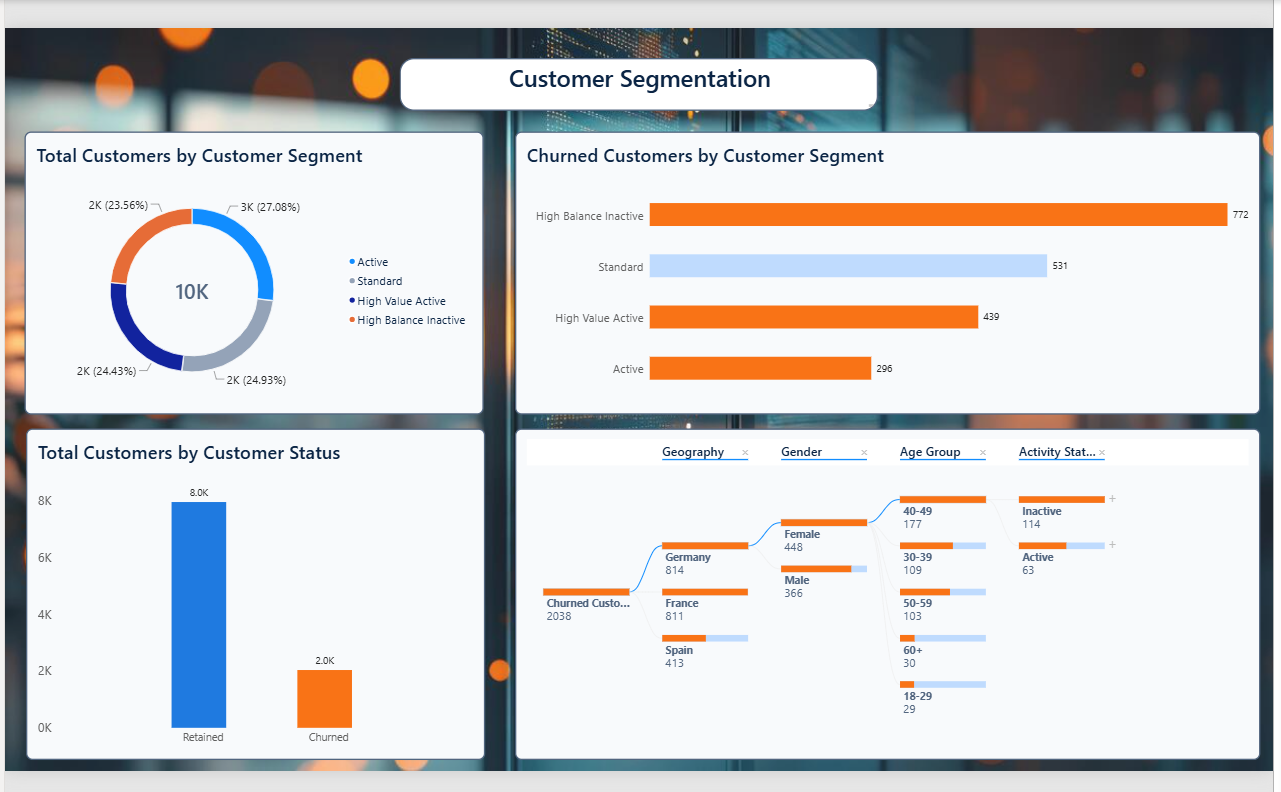

What the dashboard file says about the page in this screenshot:
{"tool":"powerbi","page":{"name":"Customer Segmentation","canvas":[1920,1080],"ordinal":3},"visuals":[{"type":"donutChart","fields":{"Category":["Customer-Churn-Records.Customer Segment"],"Y":["Customer-Churn-Records.Total Customers"]},"box":[28.9,111.1,695.6,428.9],"z":0},{"type":"barChart","fields":{"Category":["Customer-Churn-Records.Customer Segment"],"Y":["Customer-Churn-Records.Churned Customers"]},"box":[771.1,111.1,1128.9,428.9],"z":1000},{"type":"decompositionTreeVisual","fields":{"Analyze":["Customer-Churn-Records.Churned Customers"],"ExplainBy":["Customer-Churn-Records.Geography","Customer-Churn-Records.Gender","Customer-Churn-Records.Age Group","Customer-Churn-Records.Activity Status","Customer-Churn-Records.Card Type","Customer-Churn-Records.Credit Score Category","Customer-Churn-Records.NumOfProducts","Customer-Churn-Records.Satisfaction Score"]},"box":[771.1,560,1128.9,502.2],"z":2000},{"type":"clusteredColumnChart","fields":{"Category":["Customer-Churn-Records.Customer Status"],"Y":["Customer-Churn-Records.Total Customers"]},"box":[31.1,560,695.6,502.2],"z":3000},{"type":"textbox","title":"Customer Segmentation","box":[597.8,0,724.4,80],"z":4000}]}

Visuals, with their boxes in screenshot pixels (x1, y1, x2, y2):
donutChart - Customer-Churn-Records.Customer Segment x Customer-Churn-Records.Total Customers: detection(22, 130, 480, 412)
barChart - Customer-Churn-Records.Customer Segment x Customer-Churn-Records.Churned Customers: detection(511, 130, 1253, 412)
decompositionTreeVisual - Customer-Churn-Records.Churned Customers x Customer-Churn-Records.Geography: detection(511, 425, 1253, 756)
clusteredColumnChart - Customer-Churn-Records.Customer Status x Customer-Churn-Records.Total Customers: detection(24, 425, 481, 756)
"Customer Segmentation" textbox: detection(397, 57, 873, 109)
